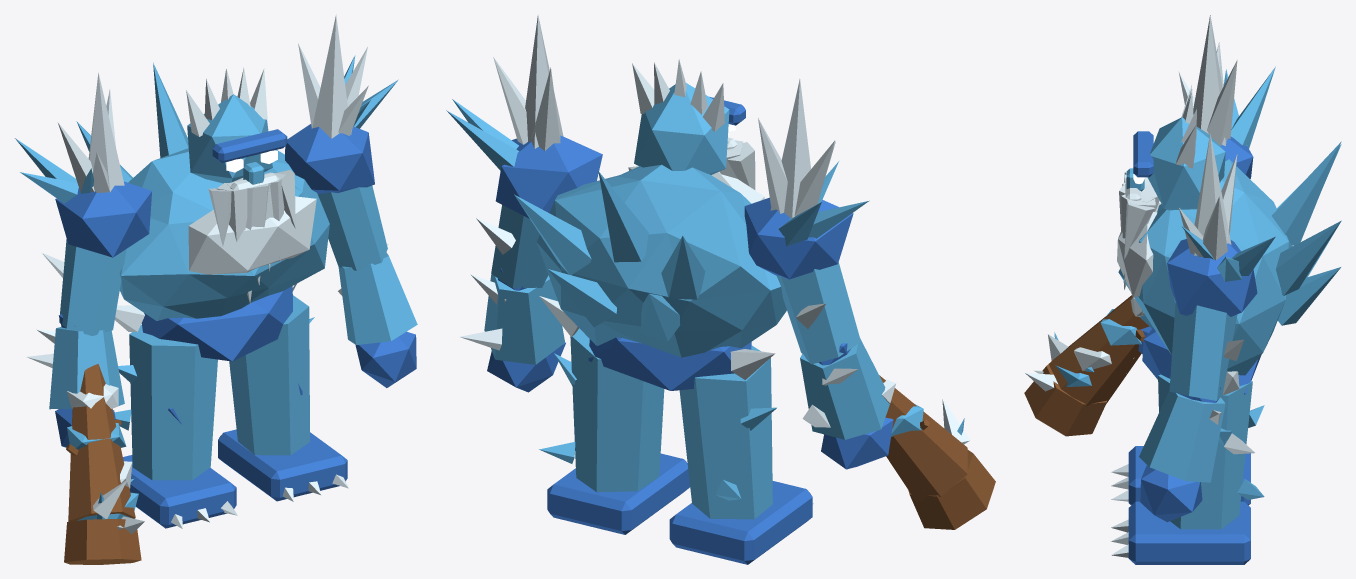
File: frost-giant-boss.glb
3 renders of one model, left to right at view 1: azimuth 30°, elevation 25°; view 2: azimuth 150°, elevation 25°; view 3: azimuth 270°, elevation 25°, orthographic. The views are drawn at different scales.
Parts seen in each view (by area): view 1: IceGiant, Club; view 2: IceGiant, Club; view 3: IceGiant, Club.
Part boxes in pixels (x1,y1,x2,y2): IceGiant: (15, 14, 417, 528); Club: (64, 364, 144, 564); IceGiant: (446, 14, 893, 564); Club: (879, 375, 995, 529); IceGiant: (1111, 15, 1341, 564); Club: (1024, 295, 1149, 436).
Bounding box in the file's own units: 21.4 × 21.8 × 14.01.
